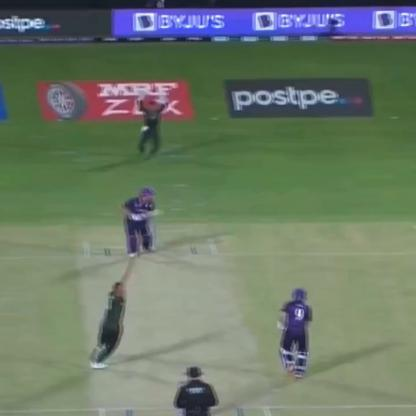pitch: (65, 235, 282, 416)
